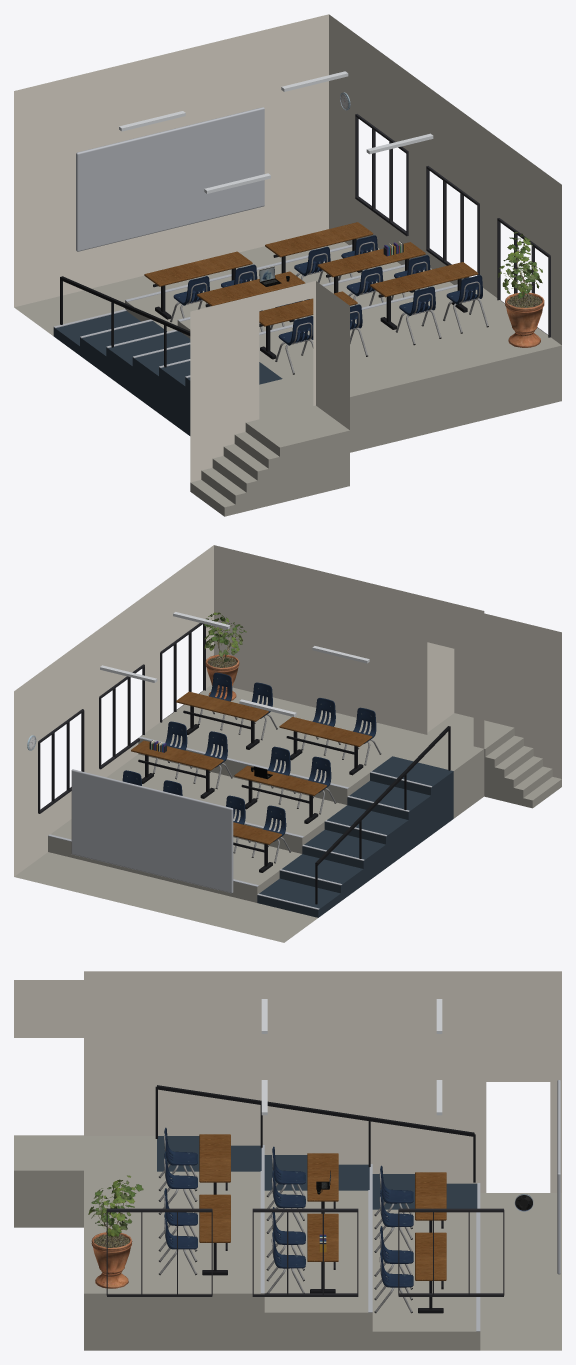
File: set6.glb
The picture shows the model from 3 angles, top to bottom: view 1: azimuth 30°, elevation 25°; view 2: azimuth 150°, elevation 25°; view 3: azimuth 270°, elevation 25°; orthographic projection. The views are drawn at different scales.
Parts seen in each view (by area): view 1: Static; view 2: Static; view 3: Static.
Part boxes in pixels (x1,y1,x2,y2): Static: (14,14,561,516); Static: (14,545,561,942); Static: (14,971,561,1350).
Size of the model in its own units: 7.57 by 4.2 by 9.4.
Materials: 25 (9 with a texture image).
